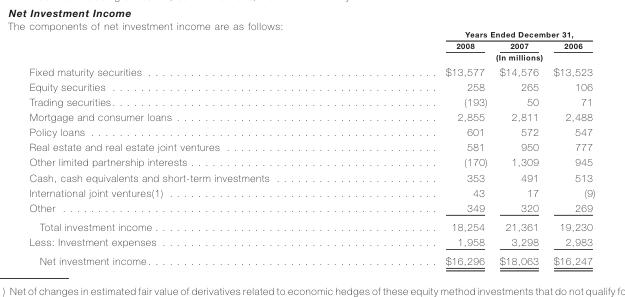table: (28, 29, 594, 266)
table column: (28, 29, 356, 266), (356, 29, 492, 266), (492, 29, 545, 266), (545, 29, 594, 266)
table column header: (28, 29, 594, 63)
table row: (28, 199, 594, 216), (28, 216, 594, 233), (28, 233, 594, 250), (28, 108, 594, 124), (28, 250, 594, 266), (28, 63, 594, 78), (28, 78, 594, 93), (28, 93, 594, 108), (28, 124, 594, 139), (28, 139, 594, 154), (28, 154, 594, 169), (28, 169, 594, 184), (28, 184, 594, 199), (28, 50, 594, 63), (28, 39, 594, 50), (28, 29, 594, 39)
table spanning cell: (356, 50, 594, 63), (356, 29, 594, 39)
